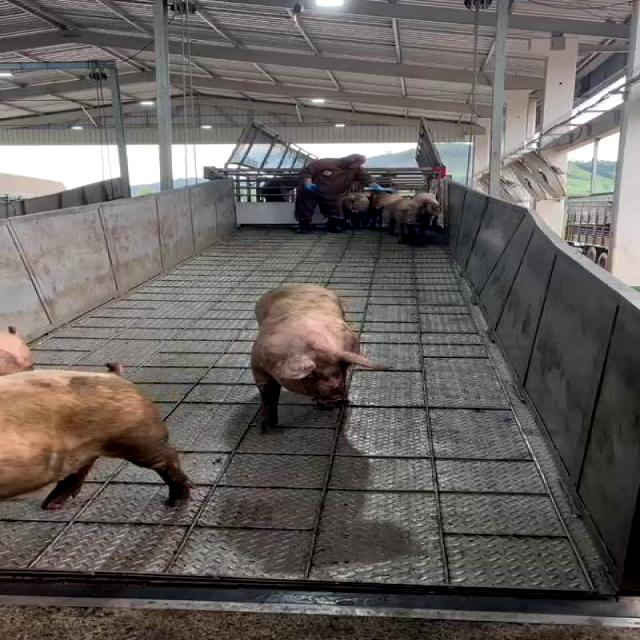pig: (0, 370, 190, 508), (252, 284, 383, 429)
